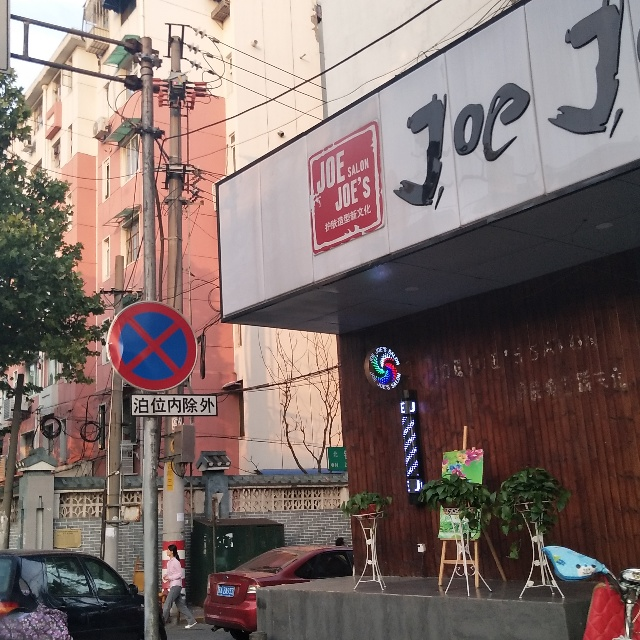stop: (116, 306, 192, 385)
